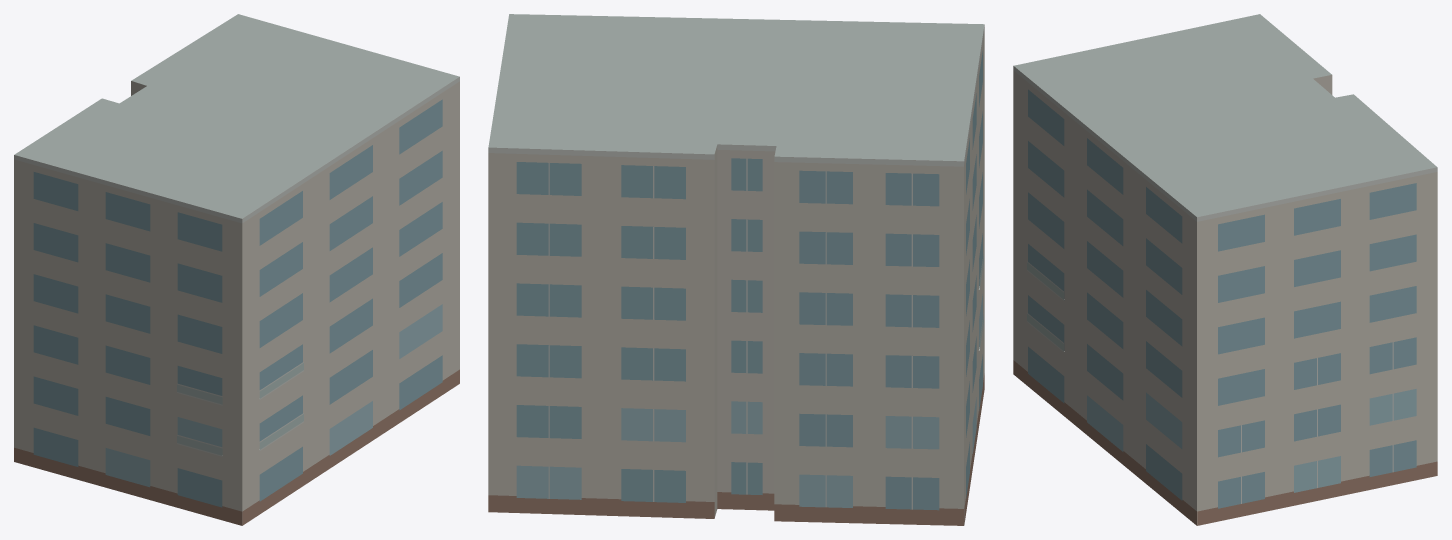
File: survey-upis-32808051.glb
The picture shows the model from 3 angles, left to right: view 1: azimuth 30°, elevation 25°; view 2: azimuth 150°, elevation 25°; view 3: azimuth 270°, elevation 25°; orthographic projection. The views are drawn at different scales.
Parts seen in each view (by area): view 1: survey-upis-32808051.tmp; view 2: survey-upis-32808051.tmp; view 3: survey-upis-32808051.tmp.
Boxes of the visible parts, x1,y1,x2,y2 form: survey-upis-32808051.tmp: (14, 14, 459, 525); survey-upis-32808051.tmp: (488, 14, 984, 525); survey-upis-32808051.tmp: (1013, 14, 1437, 525).
Size of the model in its own units: 23.18 by 16.4 by 20.43.
